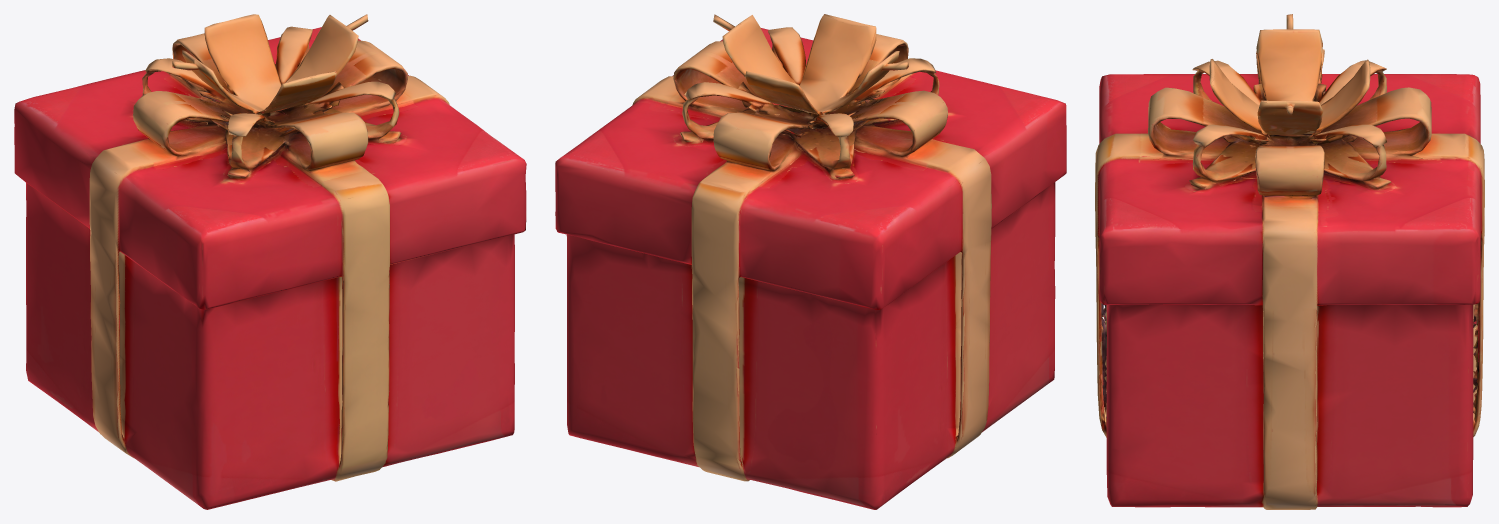
File: lazarosv-present-4093.glb
3 renders of one model, left to right at view 1: azimuth 30°, elevation 25°; view 2: azimuth 150°, elevation 25°; view 3: azimuth 270°, elevation 25°, orthographic.
Size of the model in its own units: 1.71 by 1.89 by 1.71.
Materials: 1 (1 with a texture image).
